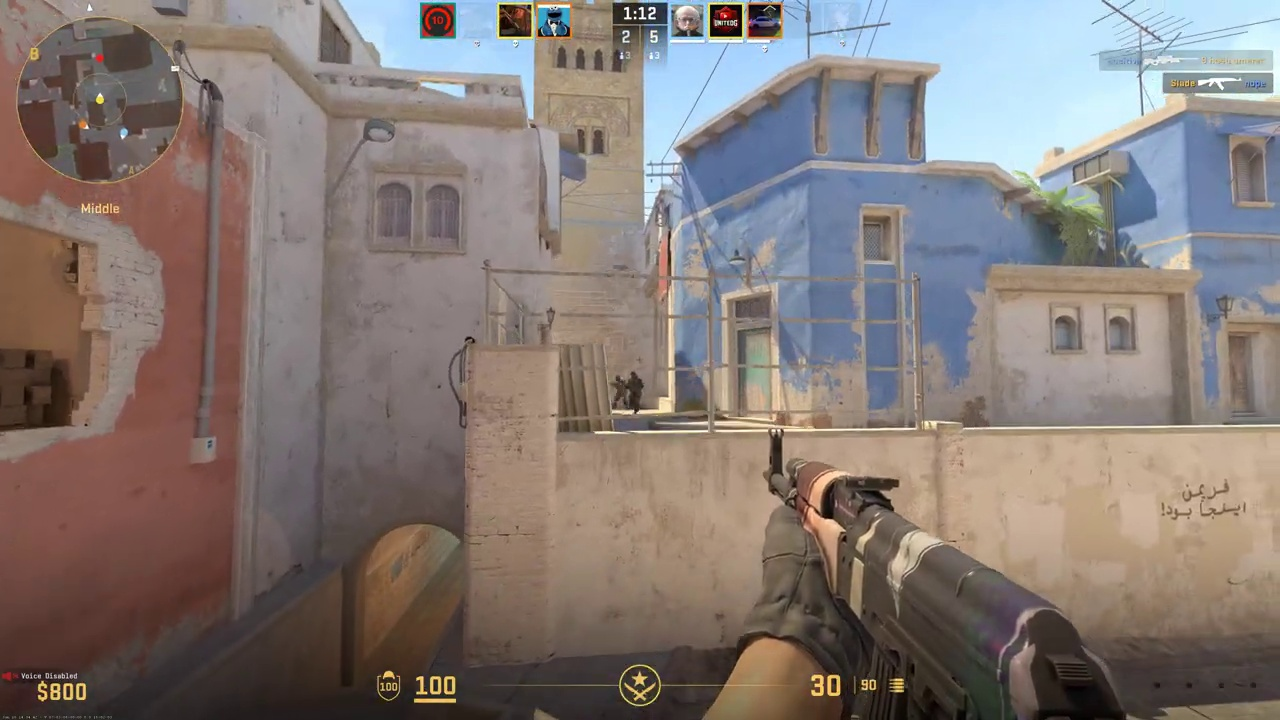CT: (627, 370, 642, 412), (610, 375, 628, 410)
